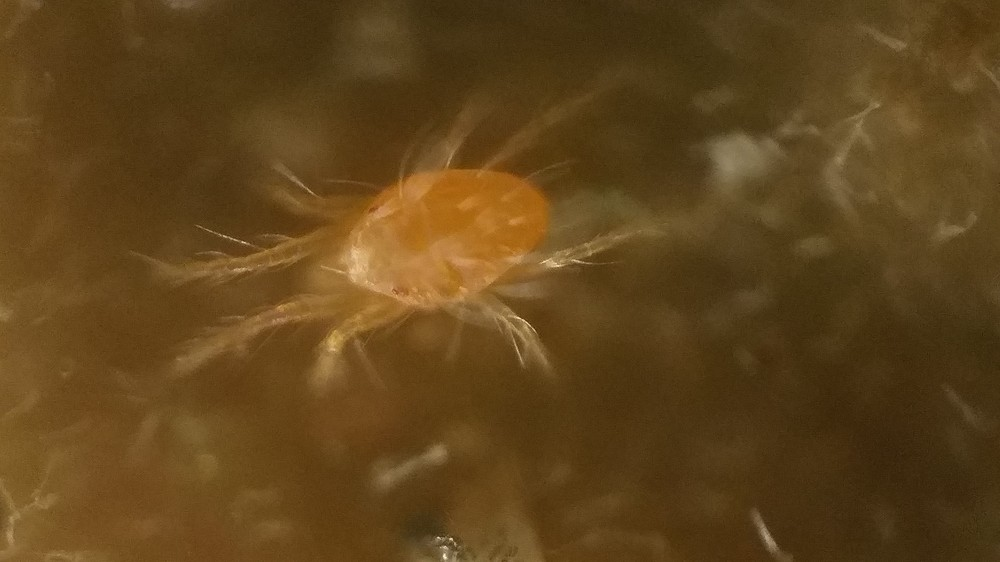Aracnido Rojo: (158, 82, 699, 411)
